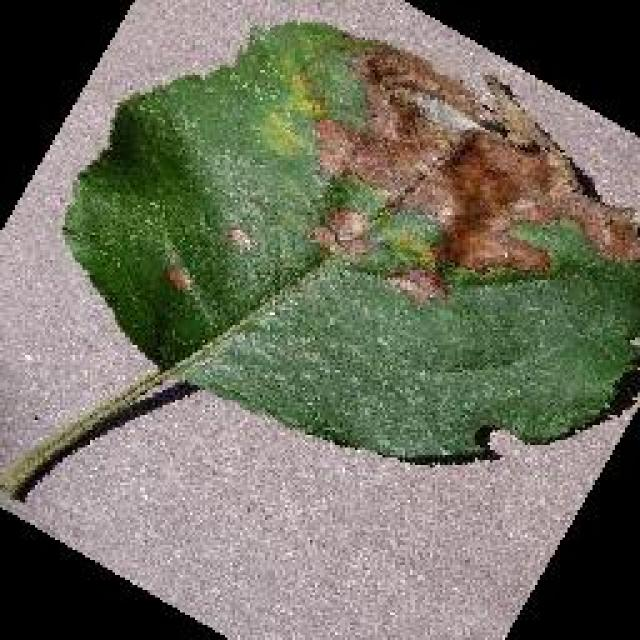Black_rot: (58, 18, 638, 462)
